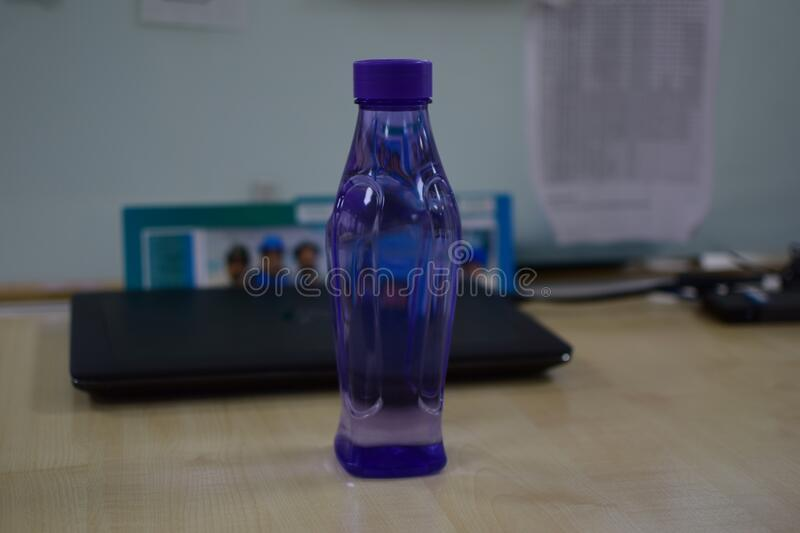bottle: (318, 48, 477, 487)
